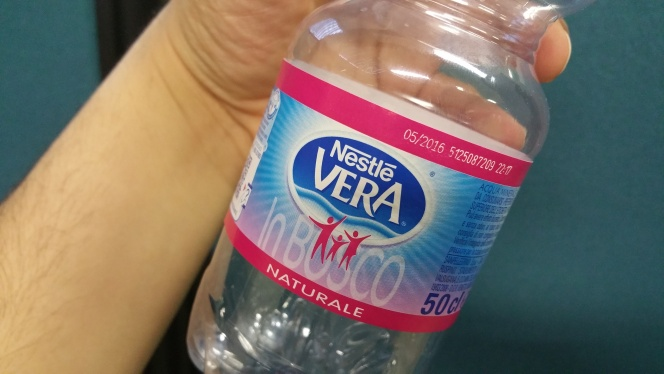bottle: (183, 1, 594, 370)
